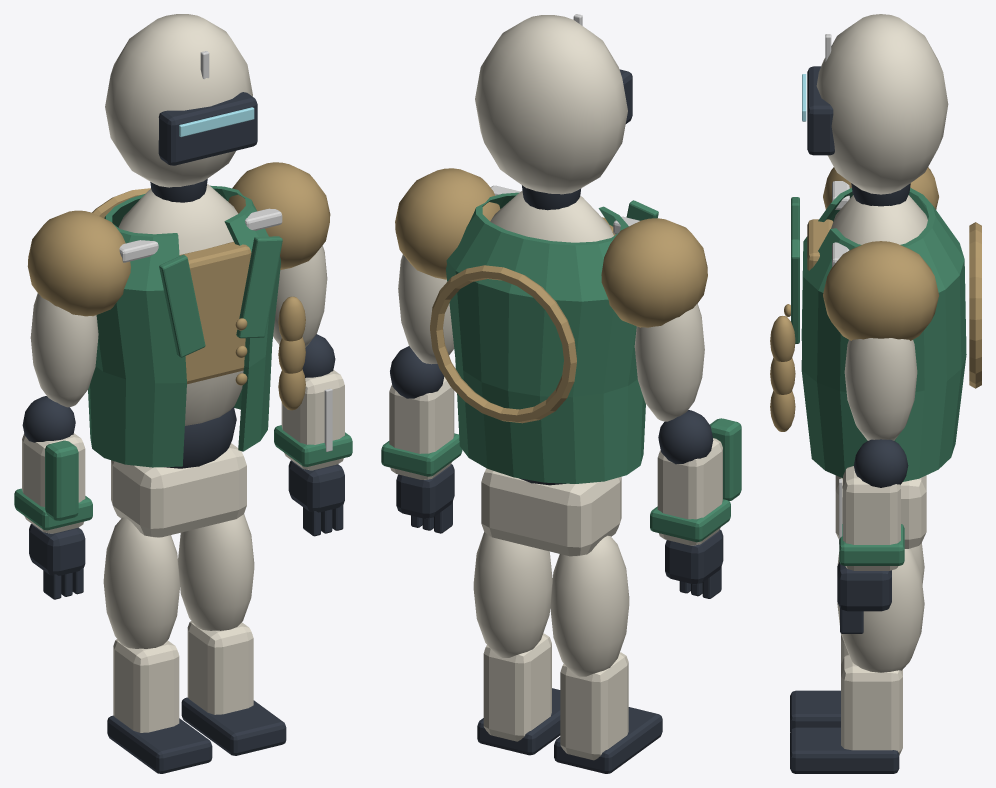
File: growth_measurement.glb
3 views of the same model, side by side, from view 1: azimuth 30°, elevation 25°; view 2: azimuth 150°, elevation 25°; view 3: azimuth 270°, elevation 25° (orthographic). The views are drawn at different scales.
Visible parts, largest first — view 1: Botanical survey tunic, Helmet, Pelvis, Shoulder R, Thigh R, Thigh L, Articulated thorax, Sternum shield, Shoulder L, Upper arm R, Shin L, Shin R (+23 smaller); view 2: Botanical survey tunic, Helmet, Pelvis, Shoulder R, Thigh R, Thigh L, Shoulder L, Dorsal astrolabe, Upper arm R, Shin R, Shin L, Bracer R (+13 smaller); view 3: Botanical survey tunic, Helmet, Shoulder L, Upper arm L, Thigh L, Shin L, Bracer L, Foot L, Articulated thorax, Hand L, Elbow L, Dorsal astrolabe (+13 smaller).
Boxes of the visible parts, bbox=[...] form: Botanical survey tunic: bbox=[88, 185, 280, 467]; Helmet: bbox=[105, 14, 252, 187]; Pelvis: bbox=[111, 443, 246, 537]; Shoulder R: bbox=[27, 210, 130, 316]; Thigh R: bbox=[103, 517, 179, 648]; Thigh L: bbox=[178, 514, 254, 630]; Articulated thorax: bbox=[118, 184, 243, 425]; Sternum shield: bbox=[179, 242, 251, 384]; Shoulder L: bbox=[228, 162, 330, 269]; Upper arm R: bbox=[30, 293, 98, 407]; Shin L: bbox=[187, 621, 253, 714]; Shin R: bbox=[113, 639, 179, 732]; Botanical survey tunic: bbox=[446, 192, 645, 483]; Helmet: bbox=[475, 15, 627, 194]; Pelvis: bbox=[481, 468, 621, 556]; Shoulder R: bbox=[601, 218, 707, 327]; Thigh R: bbox=[550, 535, 629, 676]; Thigh L: bbox=[473, 532, 552, 657]; Shoulder L: bbox=[395, 168, 500, 279]; Dorsal astrolabe: bbox=[430, 265, 576, 423]; Upper arm R: bbox=[634, 304, 704, 421]; Shin R: bbox=[560, 652, 628, 760]; Shin L: bbox=[483, 633, 551, 741]; Bracer R: bbox=[657, 438, 722, 545]; Botanical survey tunic: bbox=[801, 188, 966, 481]; Helmet: bbox=[816, 14, 948, 194]; Shoulder L: bbox=[823, 241, 939, 340]; Upper arm L: bbox=[844, 338, 917, 440]; Thigh L: bbox=[837, 548, 924, 672]; Shin L: bbox=[841, 654, 902, 755]; Bracer L: bbox=[843, 466, 900, 570]; Foot L: bbox=[790, 727, 899, 773]; Articulated thorax: bbox=[831, 195, 927, 244]; Hand L: bbox=[837, 562, 891, 611]; Elbow L: bbox=[853, 439, 908, 487]; Dorsal astrolabe: bbox=[969, 222, 981, 388].
Bounding box in the file's own units: 1 × 2.2 × 0.5823.
